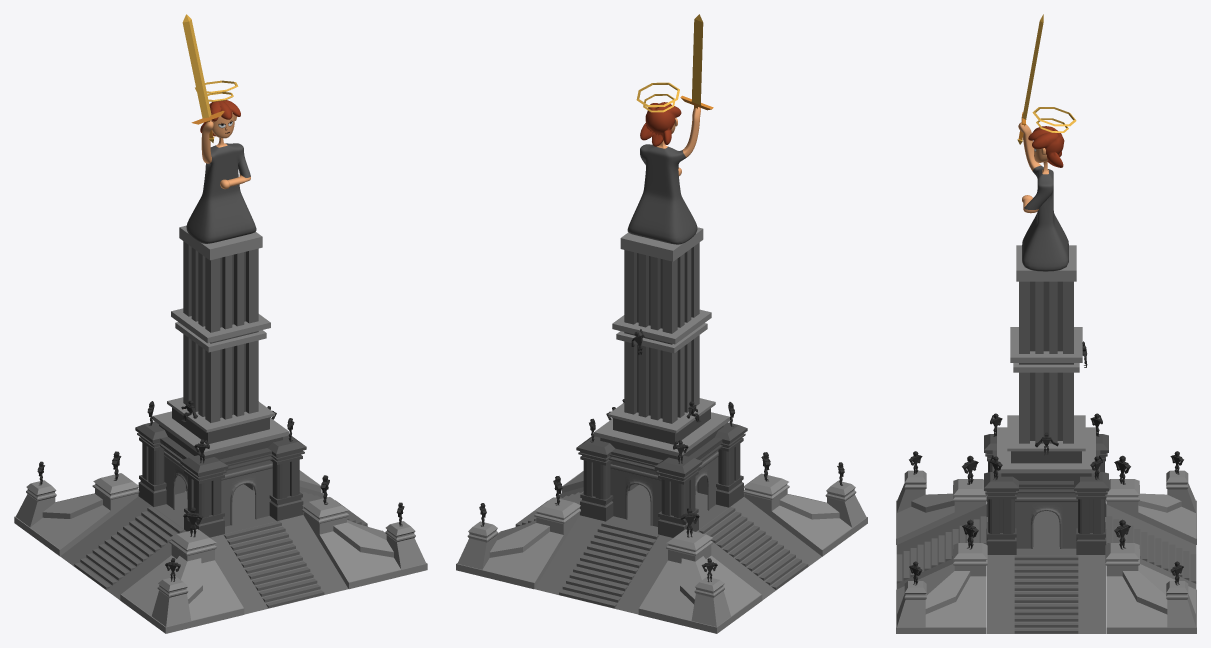
The model's file is Angel.obj.
The picture shows the model from 3 angles, left to right: view 1: azimuth 30°, elevation 25°; view 2: azimuth 150°, elevation 25°; view 3: azimuth 270°, elevation 25°; orthographic projection.
Visible parts, largest first — view 1: Cube; view 2: Cube; view 3: Cube.
Boxes of the visible parts, x1,y1,x2,y2 form: Cube: (14,14,427,633); Cube: (456,14,867,633); Cube: (896,14,1196,633).
Size of the model in its own units: 20.01 by 39.62 by 20.05.
